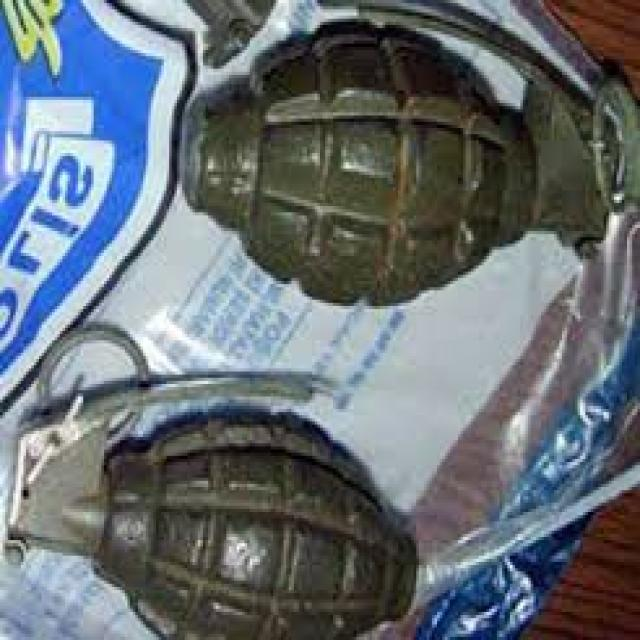grenade: (170, 1, 640, 323), (2, 317, 429, 640)
